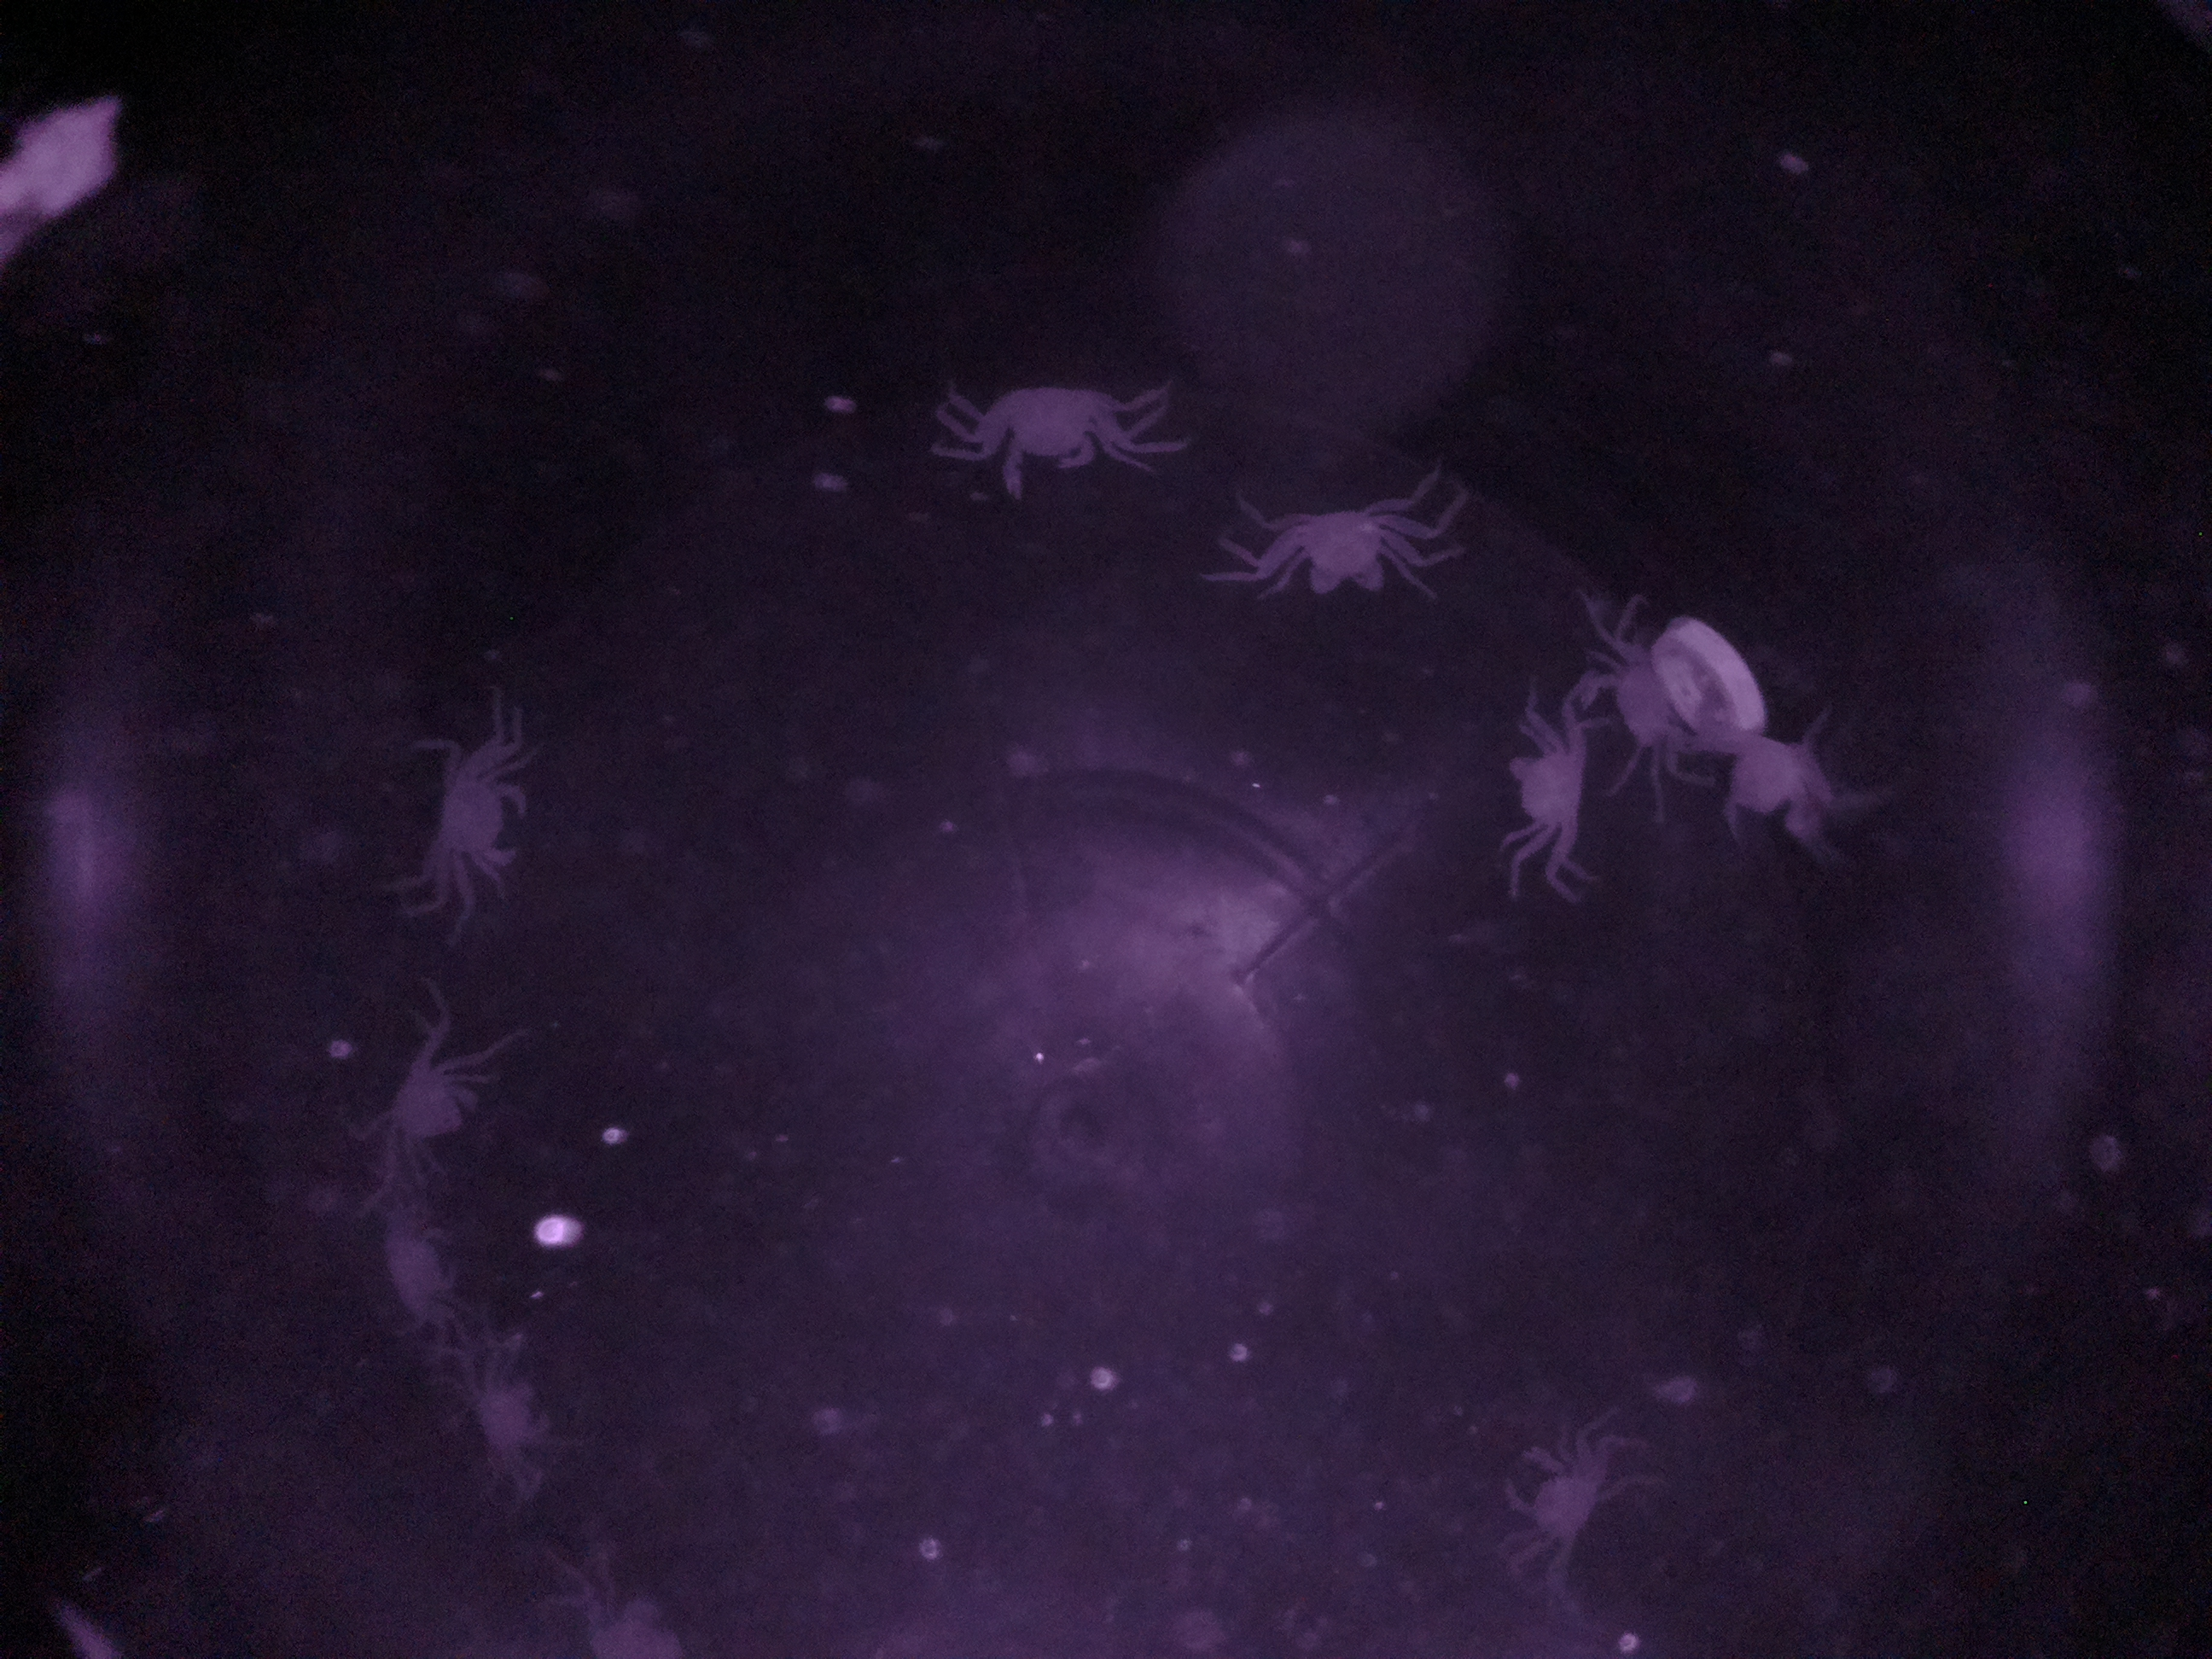Crab: (954, 354, 1136, 526), (1233, 476, 1439, 622), (1470, 1413, 1627, 1582), (1477, 692, 1613, 884), (402, 713, 543, 896)
